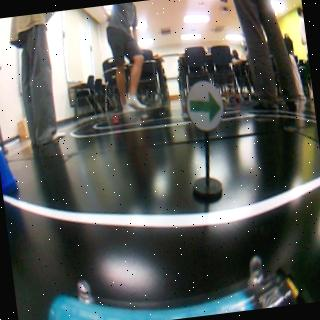right: (188, 82, 222, 128)
